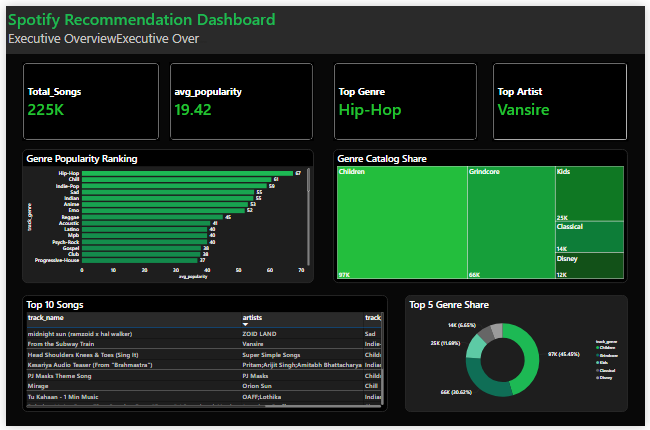

Layout of this report page (visuals, bound fields, positions):
{"tool":"powerbi","page":{"name":"Page 1","canvas":[2130,1400],"ordinal":0},"visuals":[{"type":"clusteredBarChart","title":"Genre Popularity Ranking","fields":{"Category":["dim_genre.track_genre"],"Y":["fact_table.avg_popularity"]},"box":[53.3,476.7,973.3,446.7],"z":0},{"type":"tableEx","title":"Top 10 Songs","fields":{"Values":["fact_table.track_name","dim_artist.artists","dim_genre.track_genre","fact_table.avg_popularity","Sum(fact_table.Recommendation Score)"]},"box":[53.3,963.3,1220,390],"z":1000},{"type":"donutChart","title":"Top 5 Genre Share","fields":{"Category":["dim_genre.track_genre"],"Y":["fact_table.Total_Songs"]},"box":[1330,963.3,743.3,390],"z":2000},{"type":"treemap","title":"Genre Catalog Share","fields":{"Group":["dim_genre.track_genre"],"Values":["fact_table.Total_Songs"]},"box":[1090,476.7,983.3,446.7],"z":3000},{"type":"cardVisual","fields":{"Data":["fact_table.Total_Songs"]},"box":[53.3,186.7,460,263.3],"z":4000},{"type":"cardVisual","fields":{"Data":["fact_table.avg_popularity"]},"box":[543.3,186.7,483.3,263.3],"z":5000},{"type":"cardVisual","fields":{"Data":["fact_table.Top Genre"]},"box":[1090,186.7,483.3,263.3],"z":6000},{"type":"cardVisual","fields":{"Data":["fact_table.Top Artist"]},"box":[1620,185,455,265],"z":7000},{"type":"textbox","box":[0,0,2240,160],"z":8000}]}

Visuals, with their boxes in screenshot pixels (x1, y1, x2, y2), scaled from the page's 2130x1400 canvas onto the 650x430 screenshot:
"Genre Popularity Ranking" clusteredBarChart: (16,146,313,284)
"Top 10 Songs" tableEx: (16,296,389,416)
"Top 5 Genre Share" donutChart: (406,296,633,416)
"Genre Catalog Share" treemap: (333,146,633,284)
cardVisual - fact_table.Total_Songs: (16,57,157,138)
cardVisual - fact_table.avg_popularity: (166,57,313,138)
cardVisual - fact_table.Top Genre: (333,57,480,138)
cardVisual - fact_table.Top Artist: (494,57,633,138)
textbox: (0,0,649,49)
